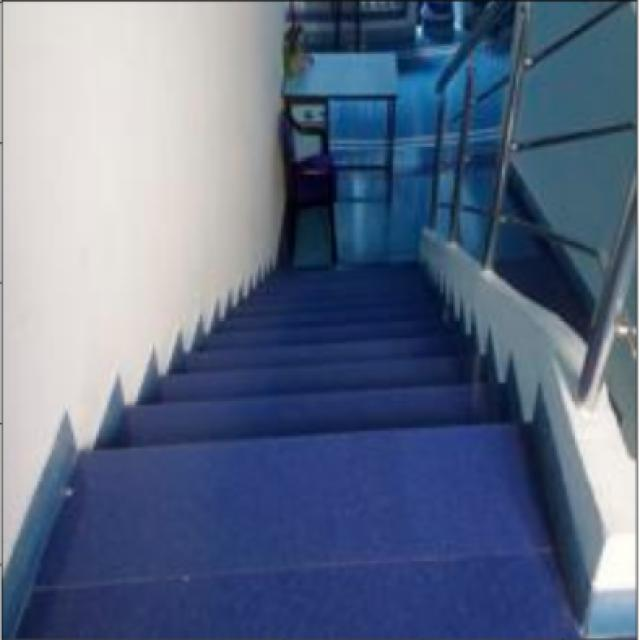stair: (63, 311, 502, 479)
